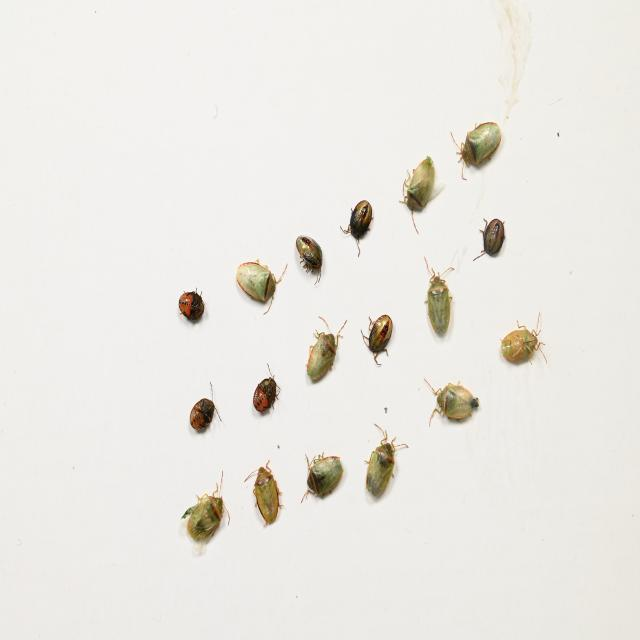stinkbug: (179, 469, 231, 549), (364, 422, 408, 500), (234, 257, 288, 314), (450, 120, 501, 180), (398, 156, 436, 233), (305, 314, 346, 384), (243, 458, 284, 527), (423, 256, 457, 338), (500, 311, 548, 367), (297, 452, 344, 505)
